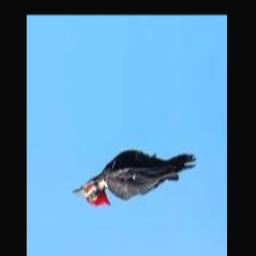Woodpecker: (74, 150, 197, 209)
